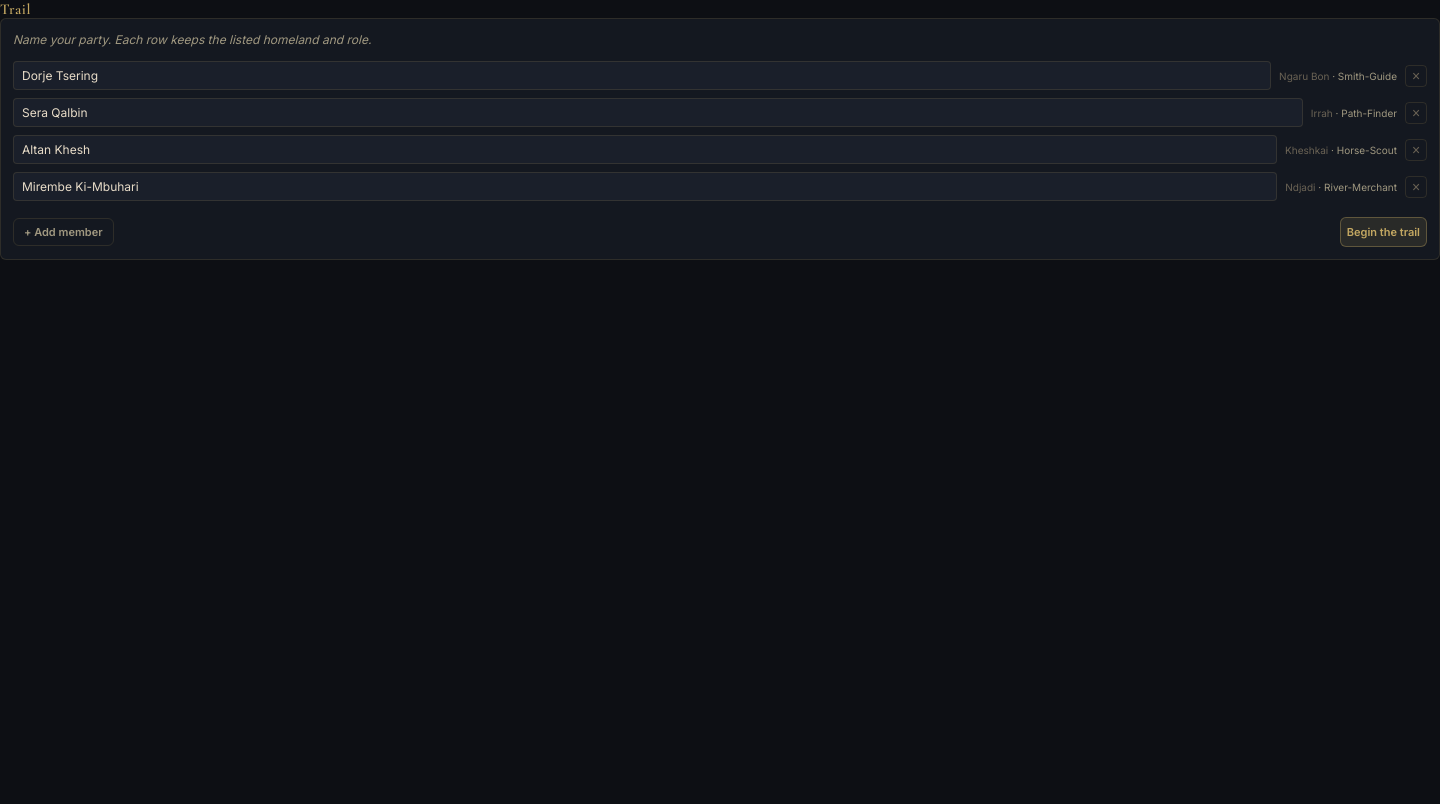
Test: TrailMode: active run › logs arrival after enough Continue presses (engine logs events, not every day)
The width and height of the screenshot is (1440, 804).
Click the button with test id "trail-begin-btn" at (1383, 232), box left=1340, top=217, right=1427, bottom=247
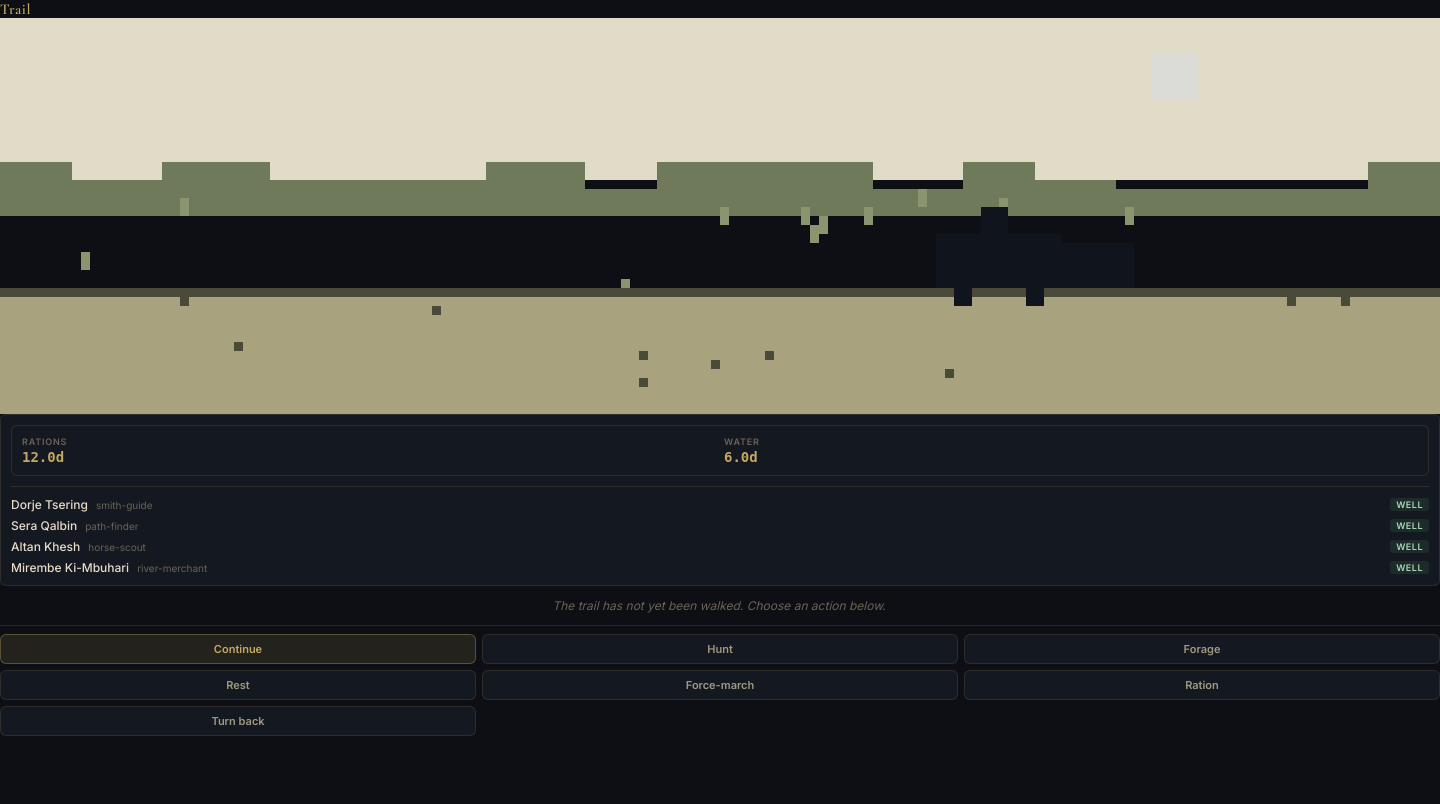
Click the button with test id "trail-action-continue" at (238, 649), box left=0, top=634, right=476, bottom=664
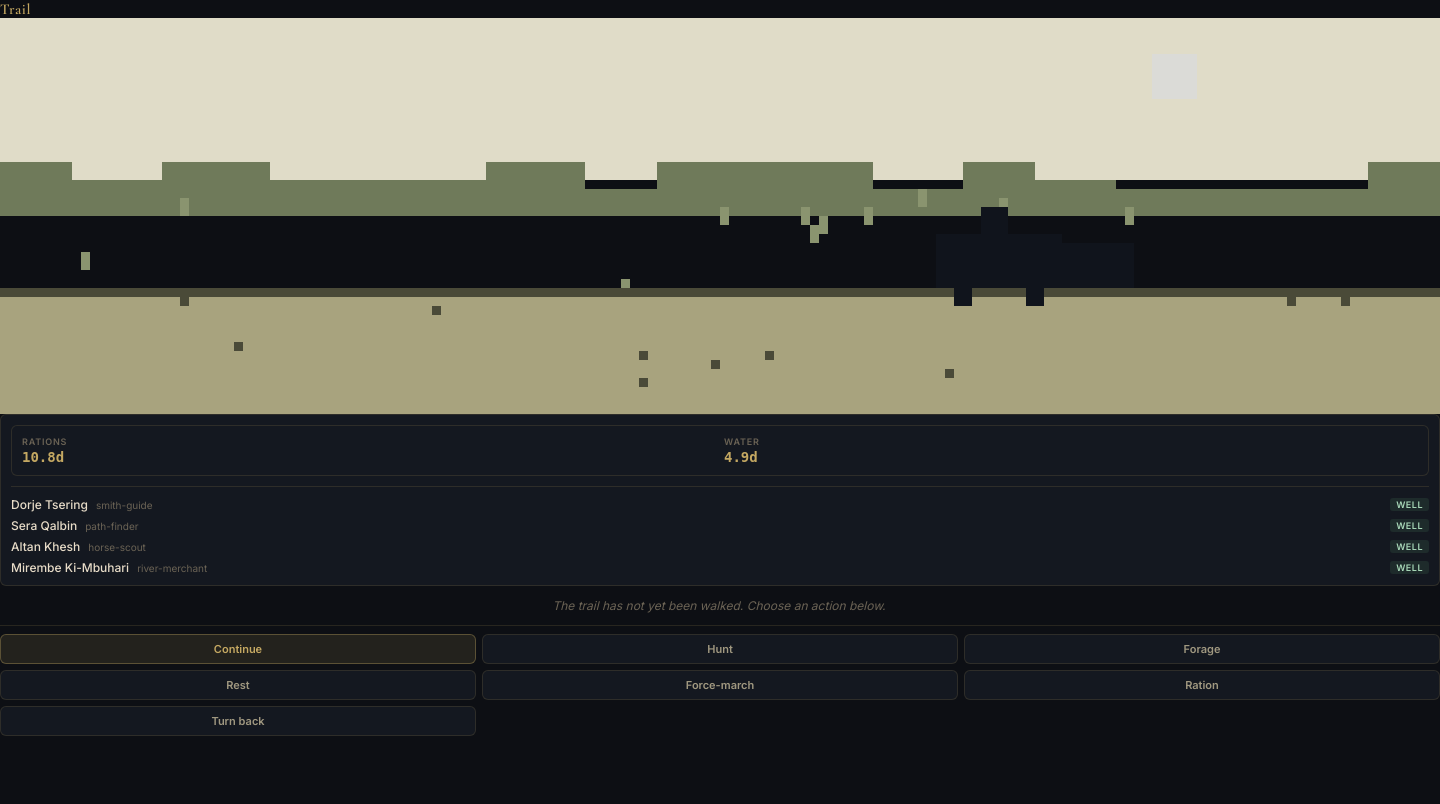
Click the button with test id "trail-action-continue" at (238, 649), box left=0, top=634, right=476, bottom=664
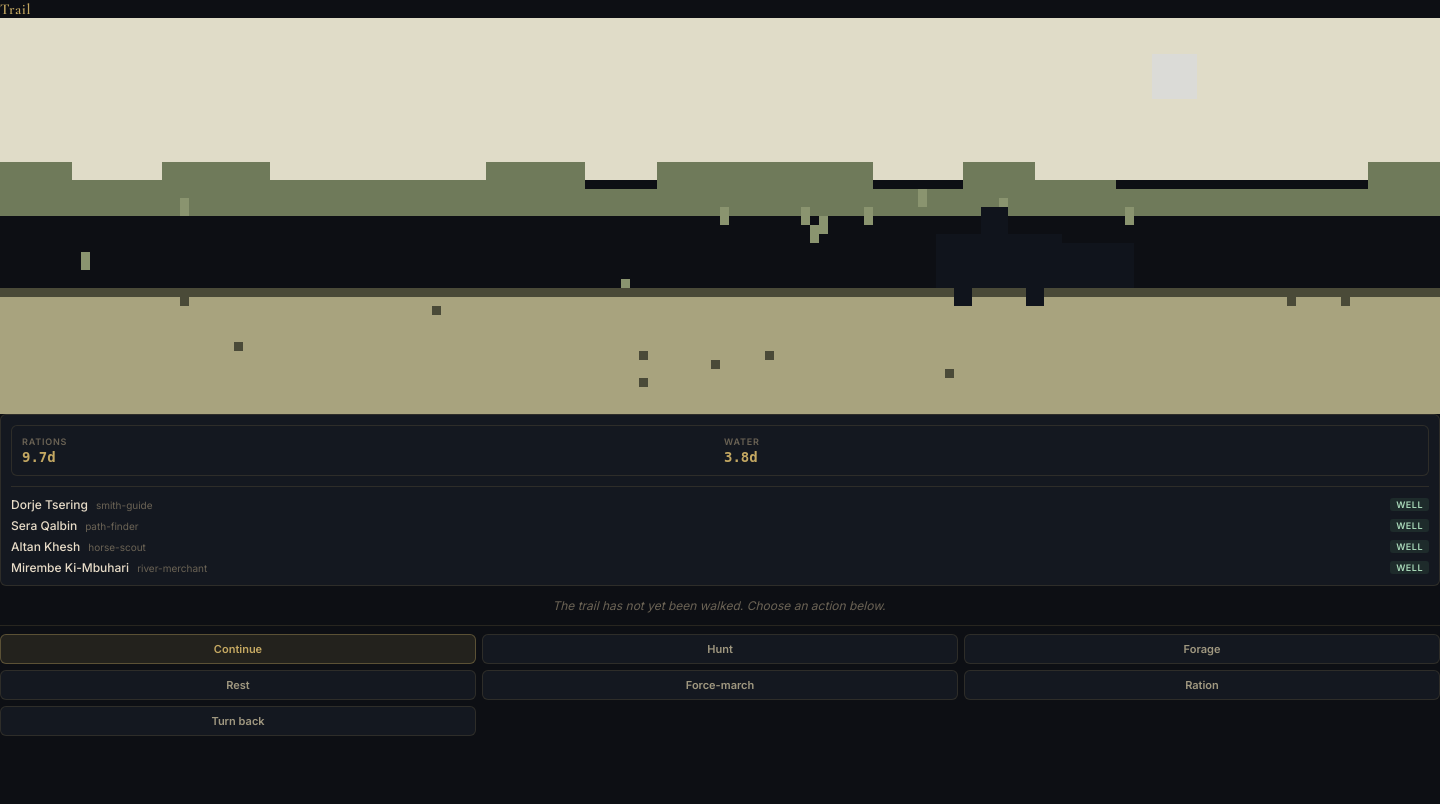
Click the button with test id "trail-action-continue" at (238, 649), box left=0, top=634, right=476, bottom=664
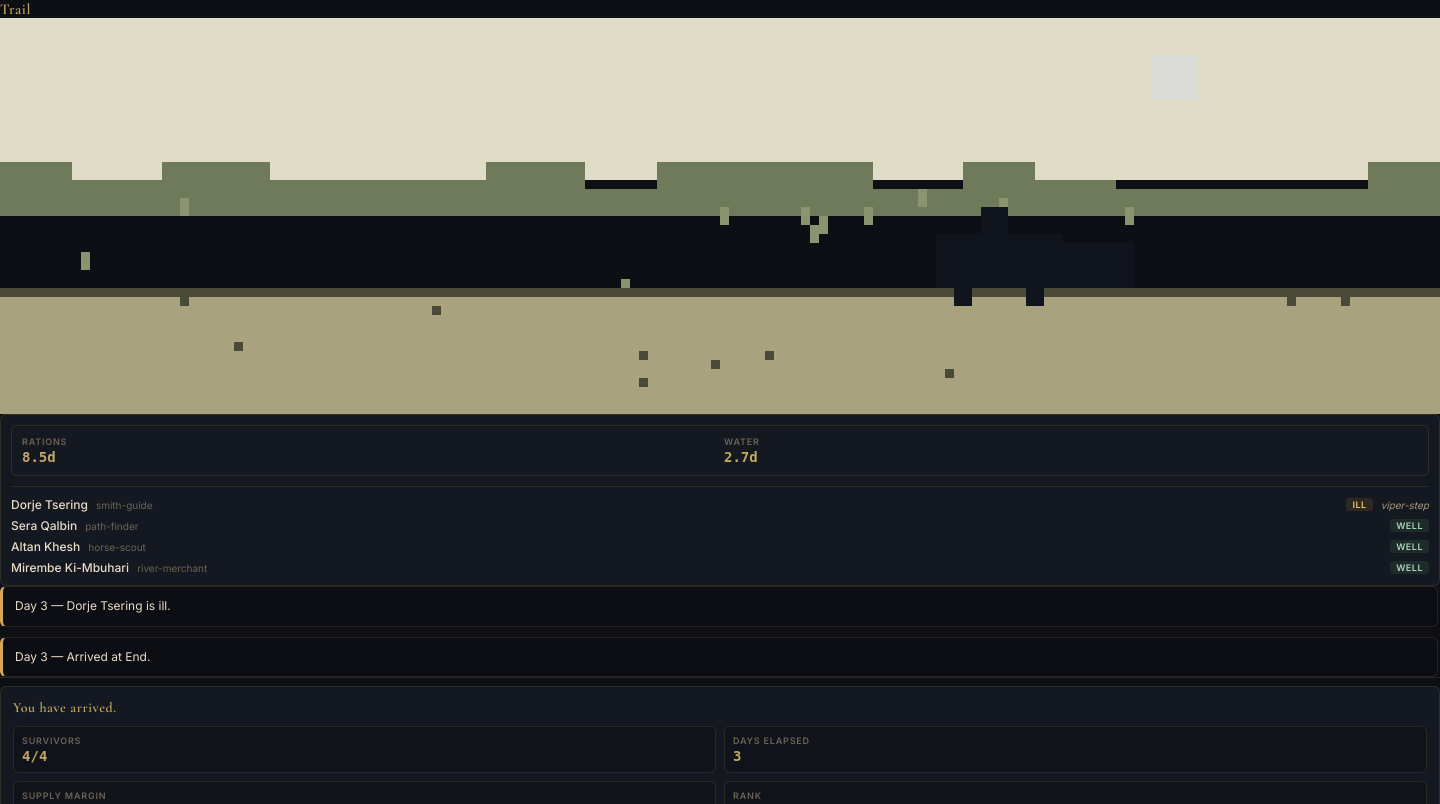
Result: the text with test id "trail-outcome-headline" reads "You have arrived." at left=13, top=699, right=117, bottom=716
